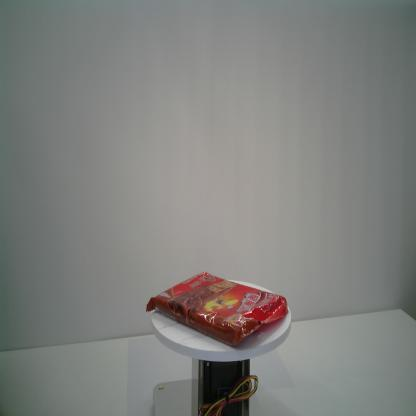Dessert: (146, 272, 288, 348)
